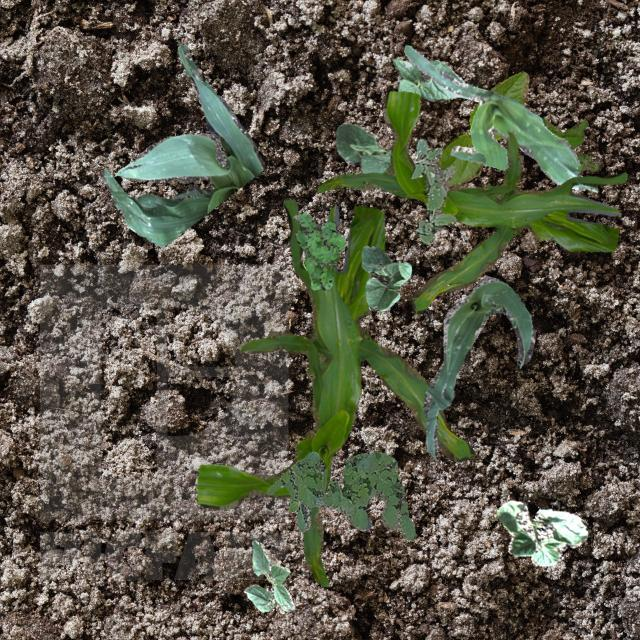crop: (196, 198, 474, 586), (316, 90, 626, 312), (99, 44, 264, 245), (402, 44, 590, 190), (422, 276, 534, 460), (434, 70, 528, 186), (497, 500, 588, 566), (335, 122, 391, 194), (244, 538, 294, 610), (360, 244, 410, 310), (392, 58, 468, 100)
weed: (266, 450, 414, 540), (410, 138, 456, 242), (292, 212, 344, 288), (540, 116, 598, 172)
